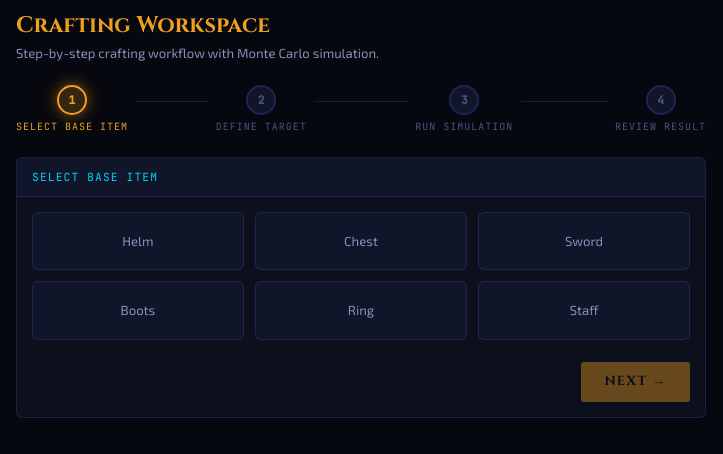
Test: CraftingWorkspace › navigates back to step 1 when Back clicked
Click the button "Helm": (138, 241) [32, 212, 244, 270]
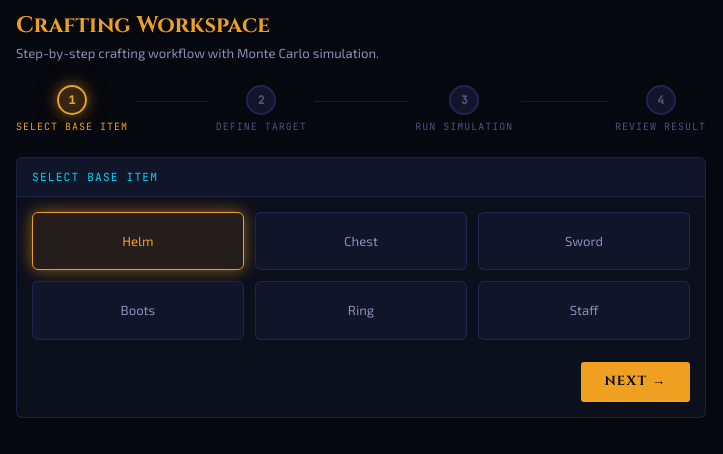
Click the button "Next →": (635, 382) [581, 362, 690, 402]
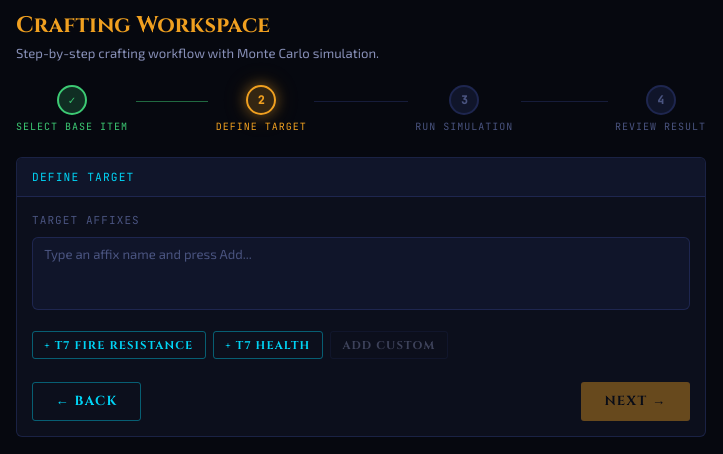
Click the button "← Back": (87, 402) [32, 382, 141, 421]
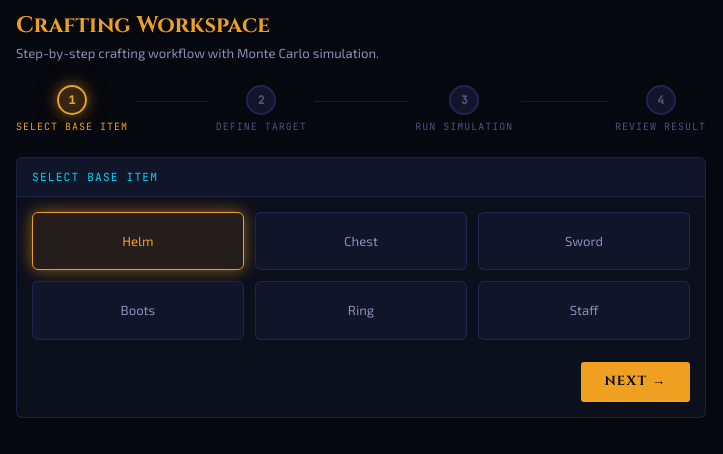
Expected: the text "Select Base Item" next to "Define Target" is shown, [16, 120, 128, 133]
Expected: the button "Helm" is shown, [32, 212, 244, 270]
